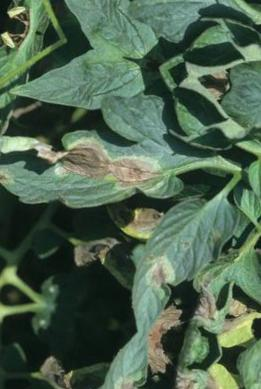Tomato leaf late blight: (0, 62, 253, 261), (115, 170, 241, 349)
